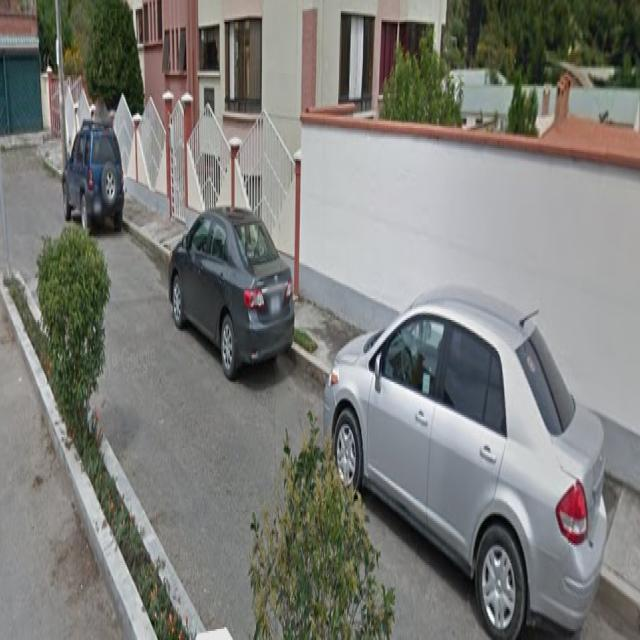Car: (177, 197, 295, 386)
